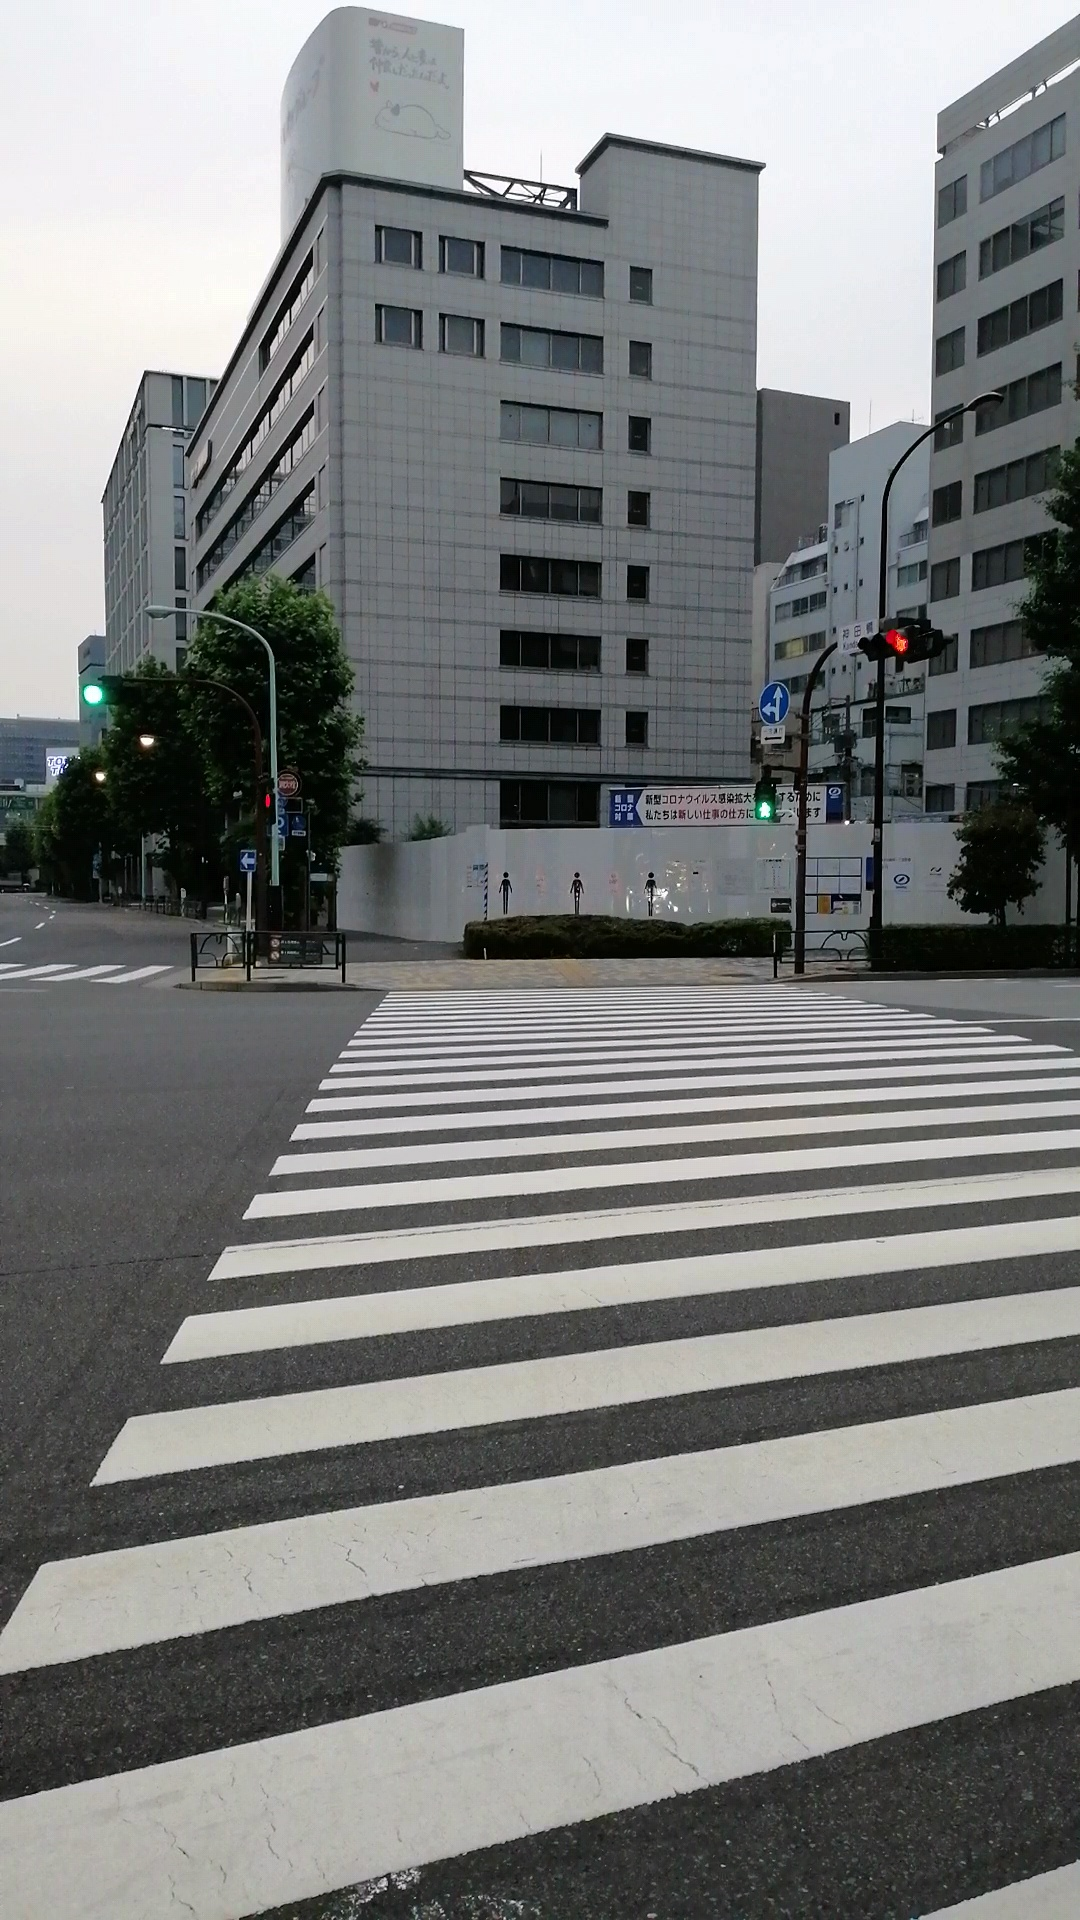green: (752, 781, 775, 820)
